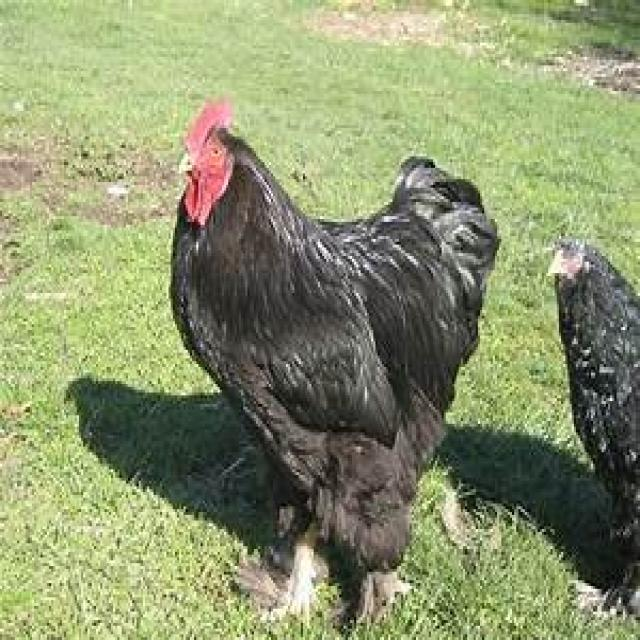animal: (138, 89, 474, 613), (518, 200, 639, 602)
